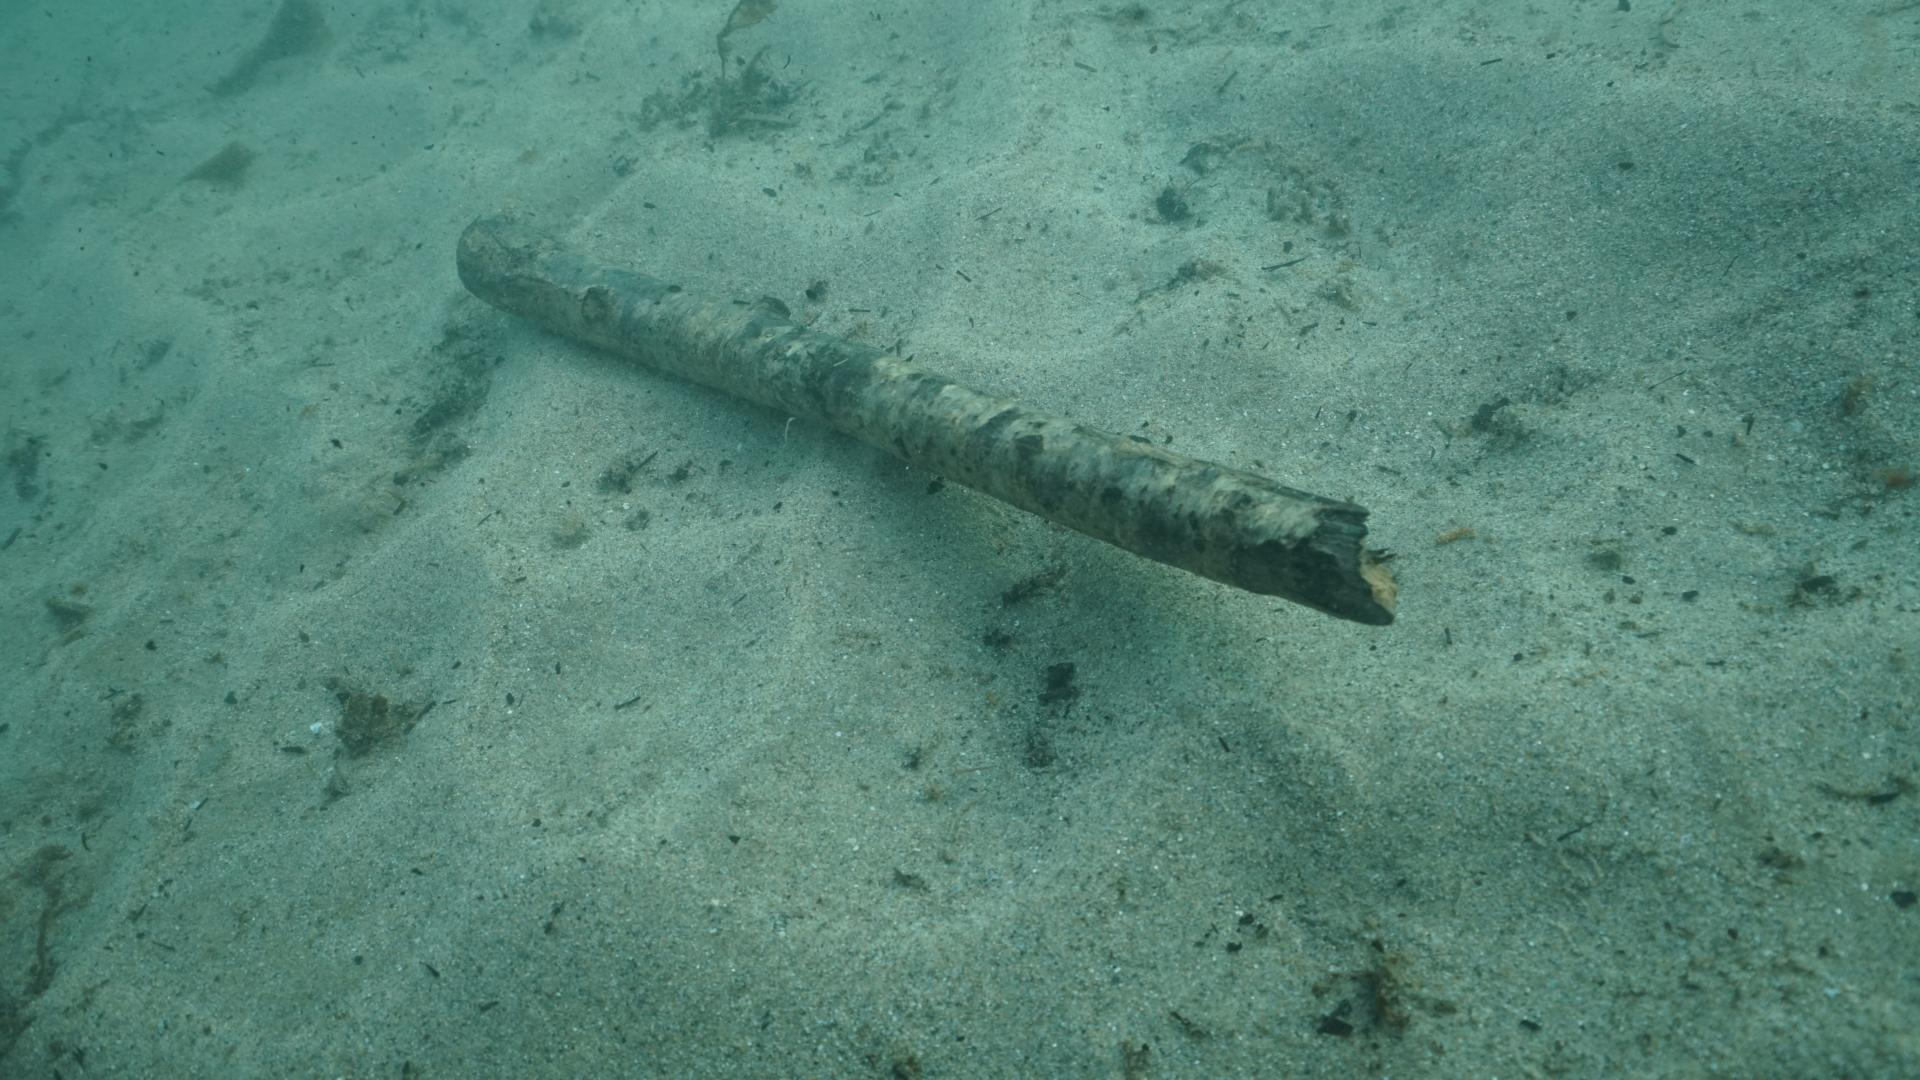wood: (454, 214, 1393, 621)
